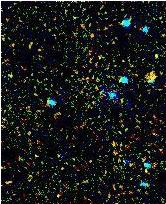star: (136, 60, 166, 90)
